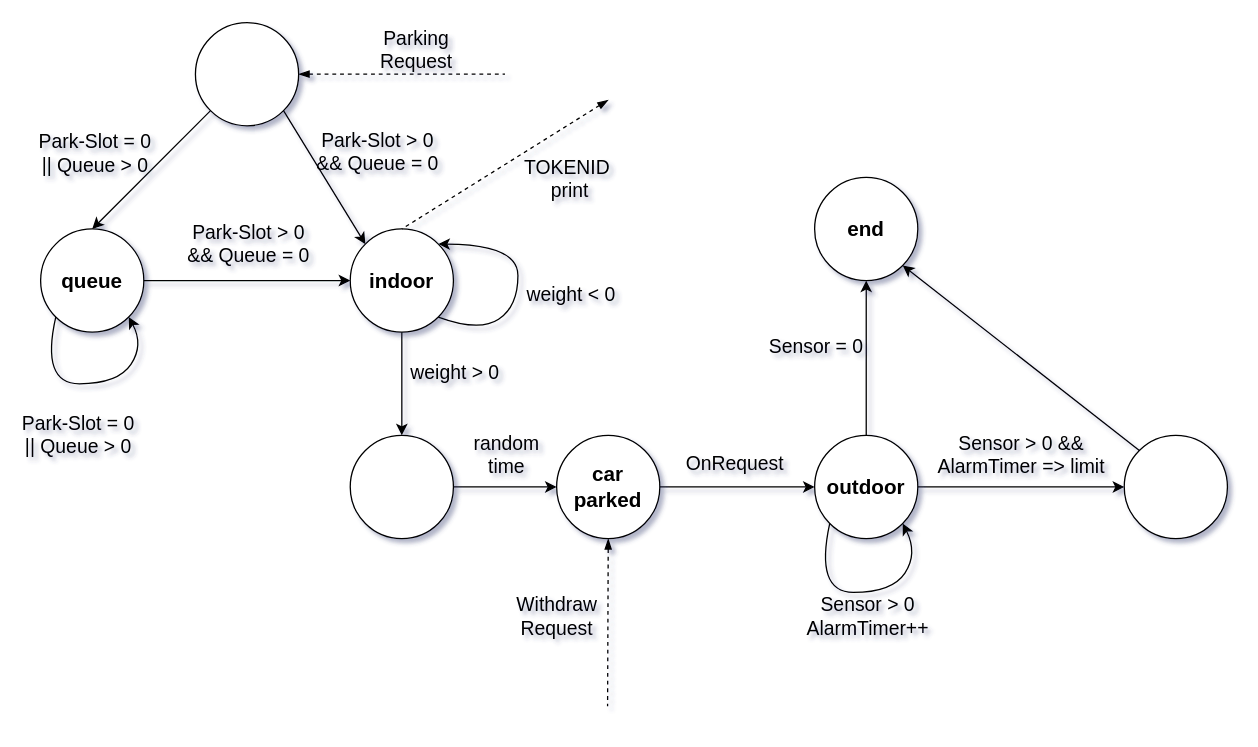
This 1258x747 diagram has some shape labels left out. Each missing label, with the centre of its shape:
alarm: (x=1175, y=486)
car parking: (x=401, y=486)
init: (x=246, y=73)
